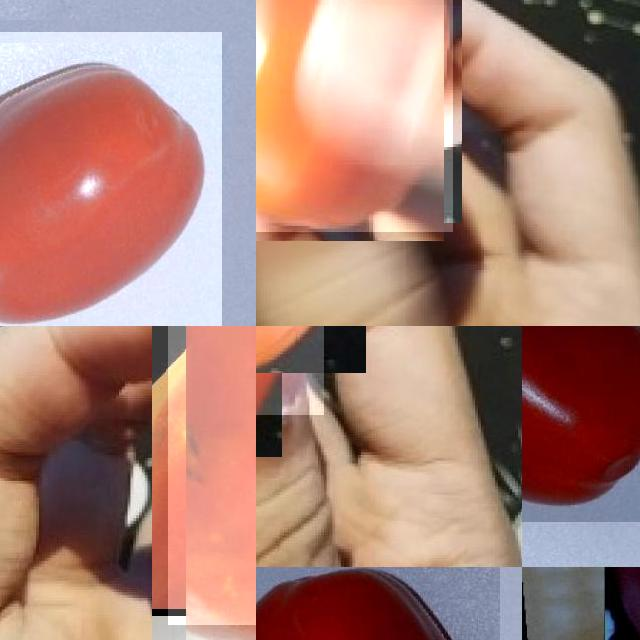0: (0, 32, 222, 326)
Fresh Tomato: (256, 0, 453, 232), (522, 326, 640, 522), (256, 567, 499, 640)
Rotten Tomato: (168, 326, 256, 625)
